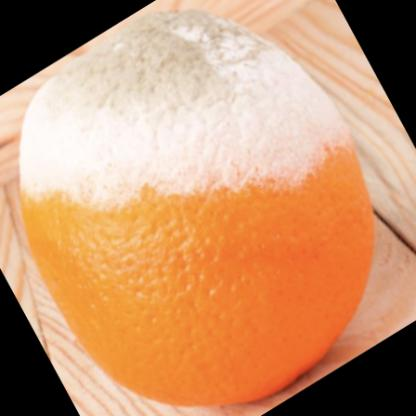rotten: (20, 15, 376, 408)
